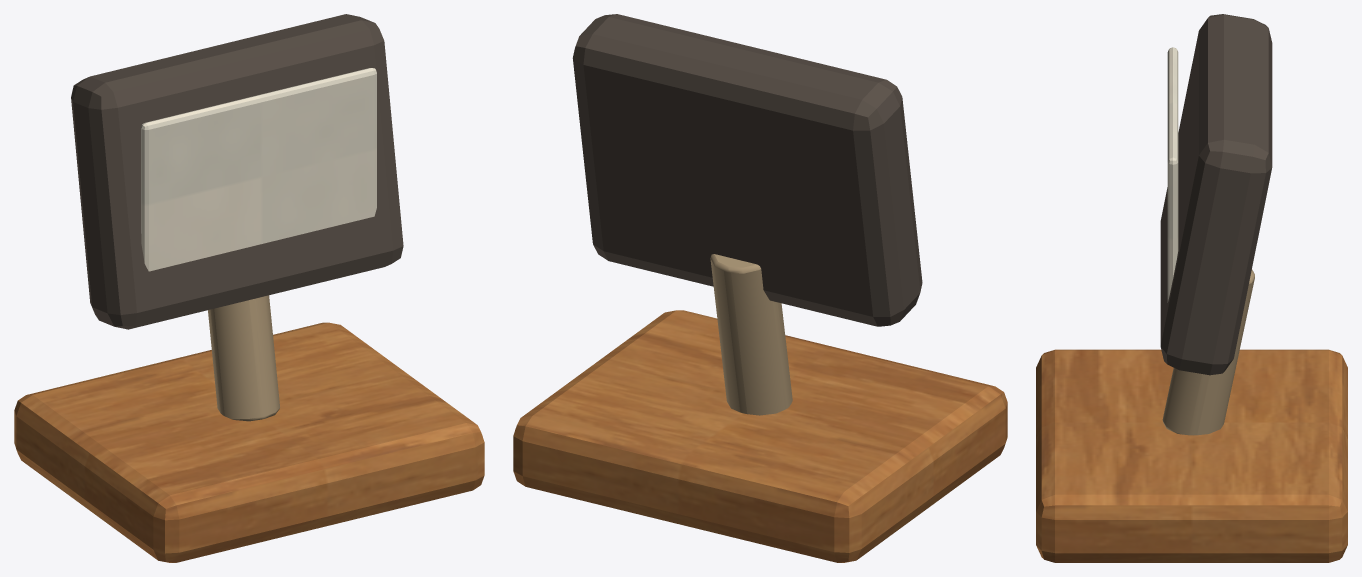
File: WC_CAFE_POS_A.glb
The picture shows the model from 3 angles, left to right: view 1: azimuth 30°, elevation 25°; view 2: azimuth 150°, elevation 25°; view 3: azimuth 270°, elevation 25°; orthographic projection. The views are drawn at different scales.
Parts seen in each view (by area): view 1: WC_CAFE_POS_A_RenderMesh; view 2: WC_CAFE_POS_A_RenderMesh; view 3: WC_CAFE_POS_A_RenderMesh.
Part boxes in pixels (left/top/right/bottom): WC_CAFE_POS_A_RenderMesh: left=14, top=14, right=484, bottom=562; WC_CAFE_POS_A_RenderMesh: left=513, top=14, right=1007, bottom=562; WC_CAFE_POS_A_RenderMesh: left=1036, top=14, right=1347, bottom=562.
Bounding box in the file's own units: 0.28 × 0.336 × 0.23.
4 materials, 2 textured.
